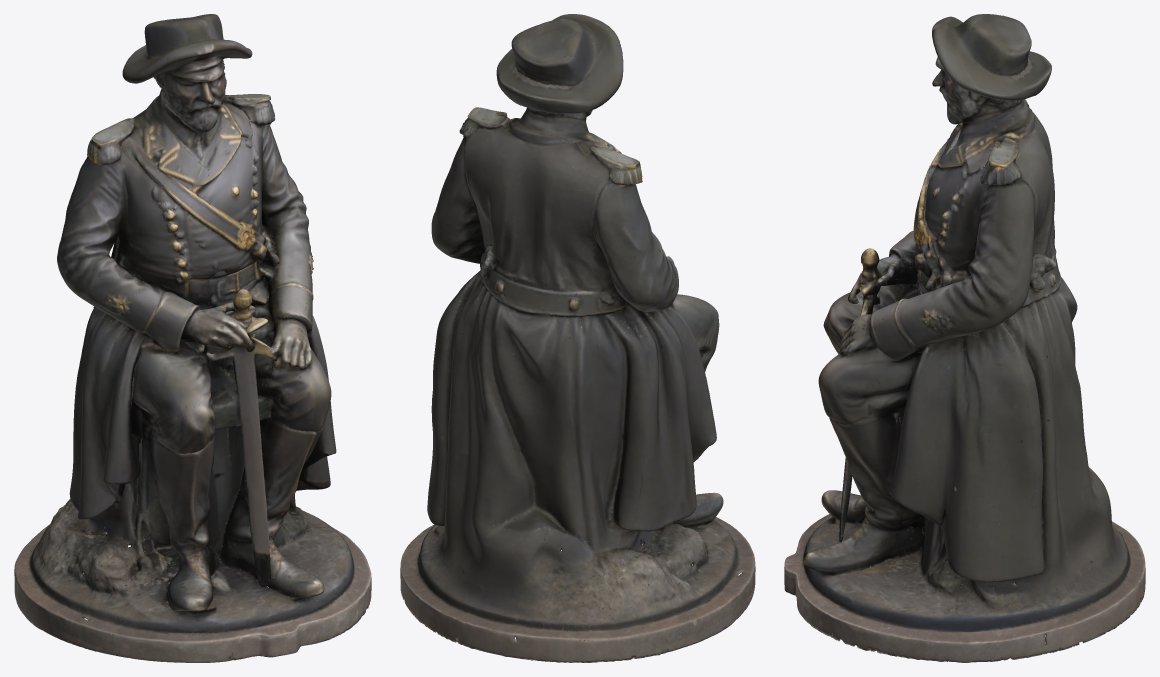
The model's file is SoldierStatue.glb.
3 renders of one model, left to right at view 1: azimuth 30°, elevation 25°; view 2: azimuth 150°, elevation 25°; view 3: azimuth 270°, elevation 25°, orthographic.
Visible parts, largest first — view 1: Mesh_0; view 2: Mesh_0; view 3: Mesh_0.
Boxes of the visible parts, bbox=[...] form: Mesh_0: bbox=[14, 14, 371, 662]; Mesh_0: bbox=[400, 14, 755, 662]; Mesh_0: bbox=[784, 14, 1145, 662].
Size of the model in its own units: 1.7 by 3 by 1.72.
Materials: 1 (1 with a texture image).
